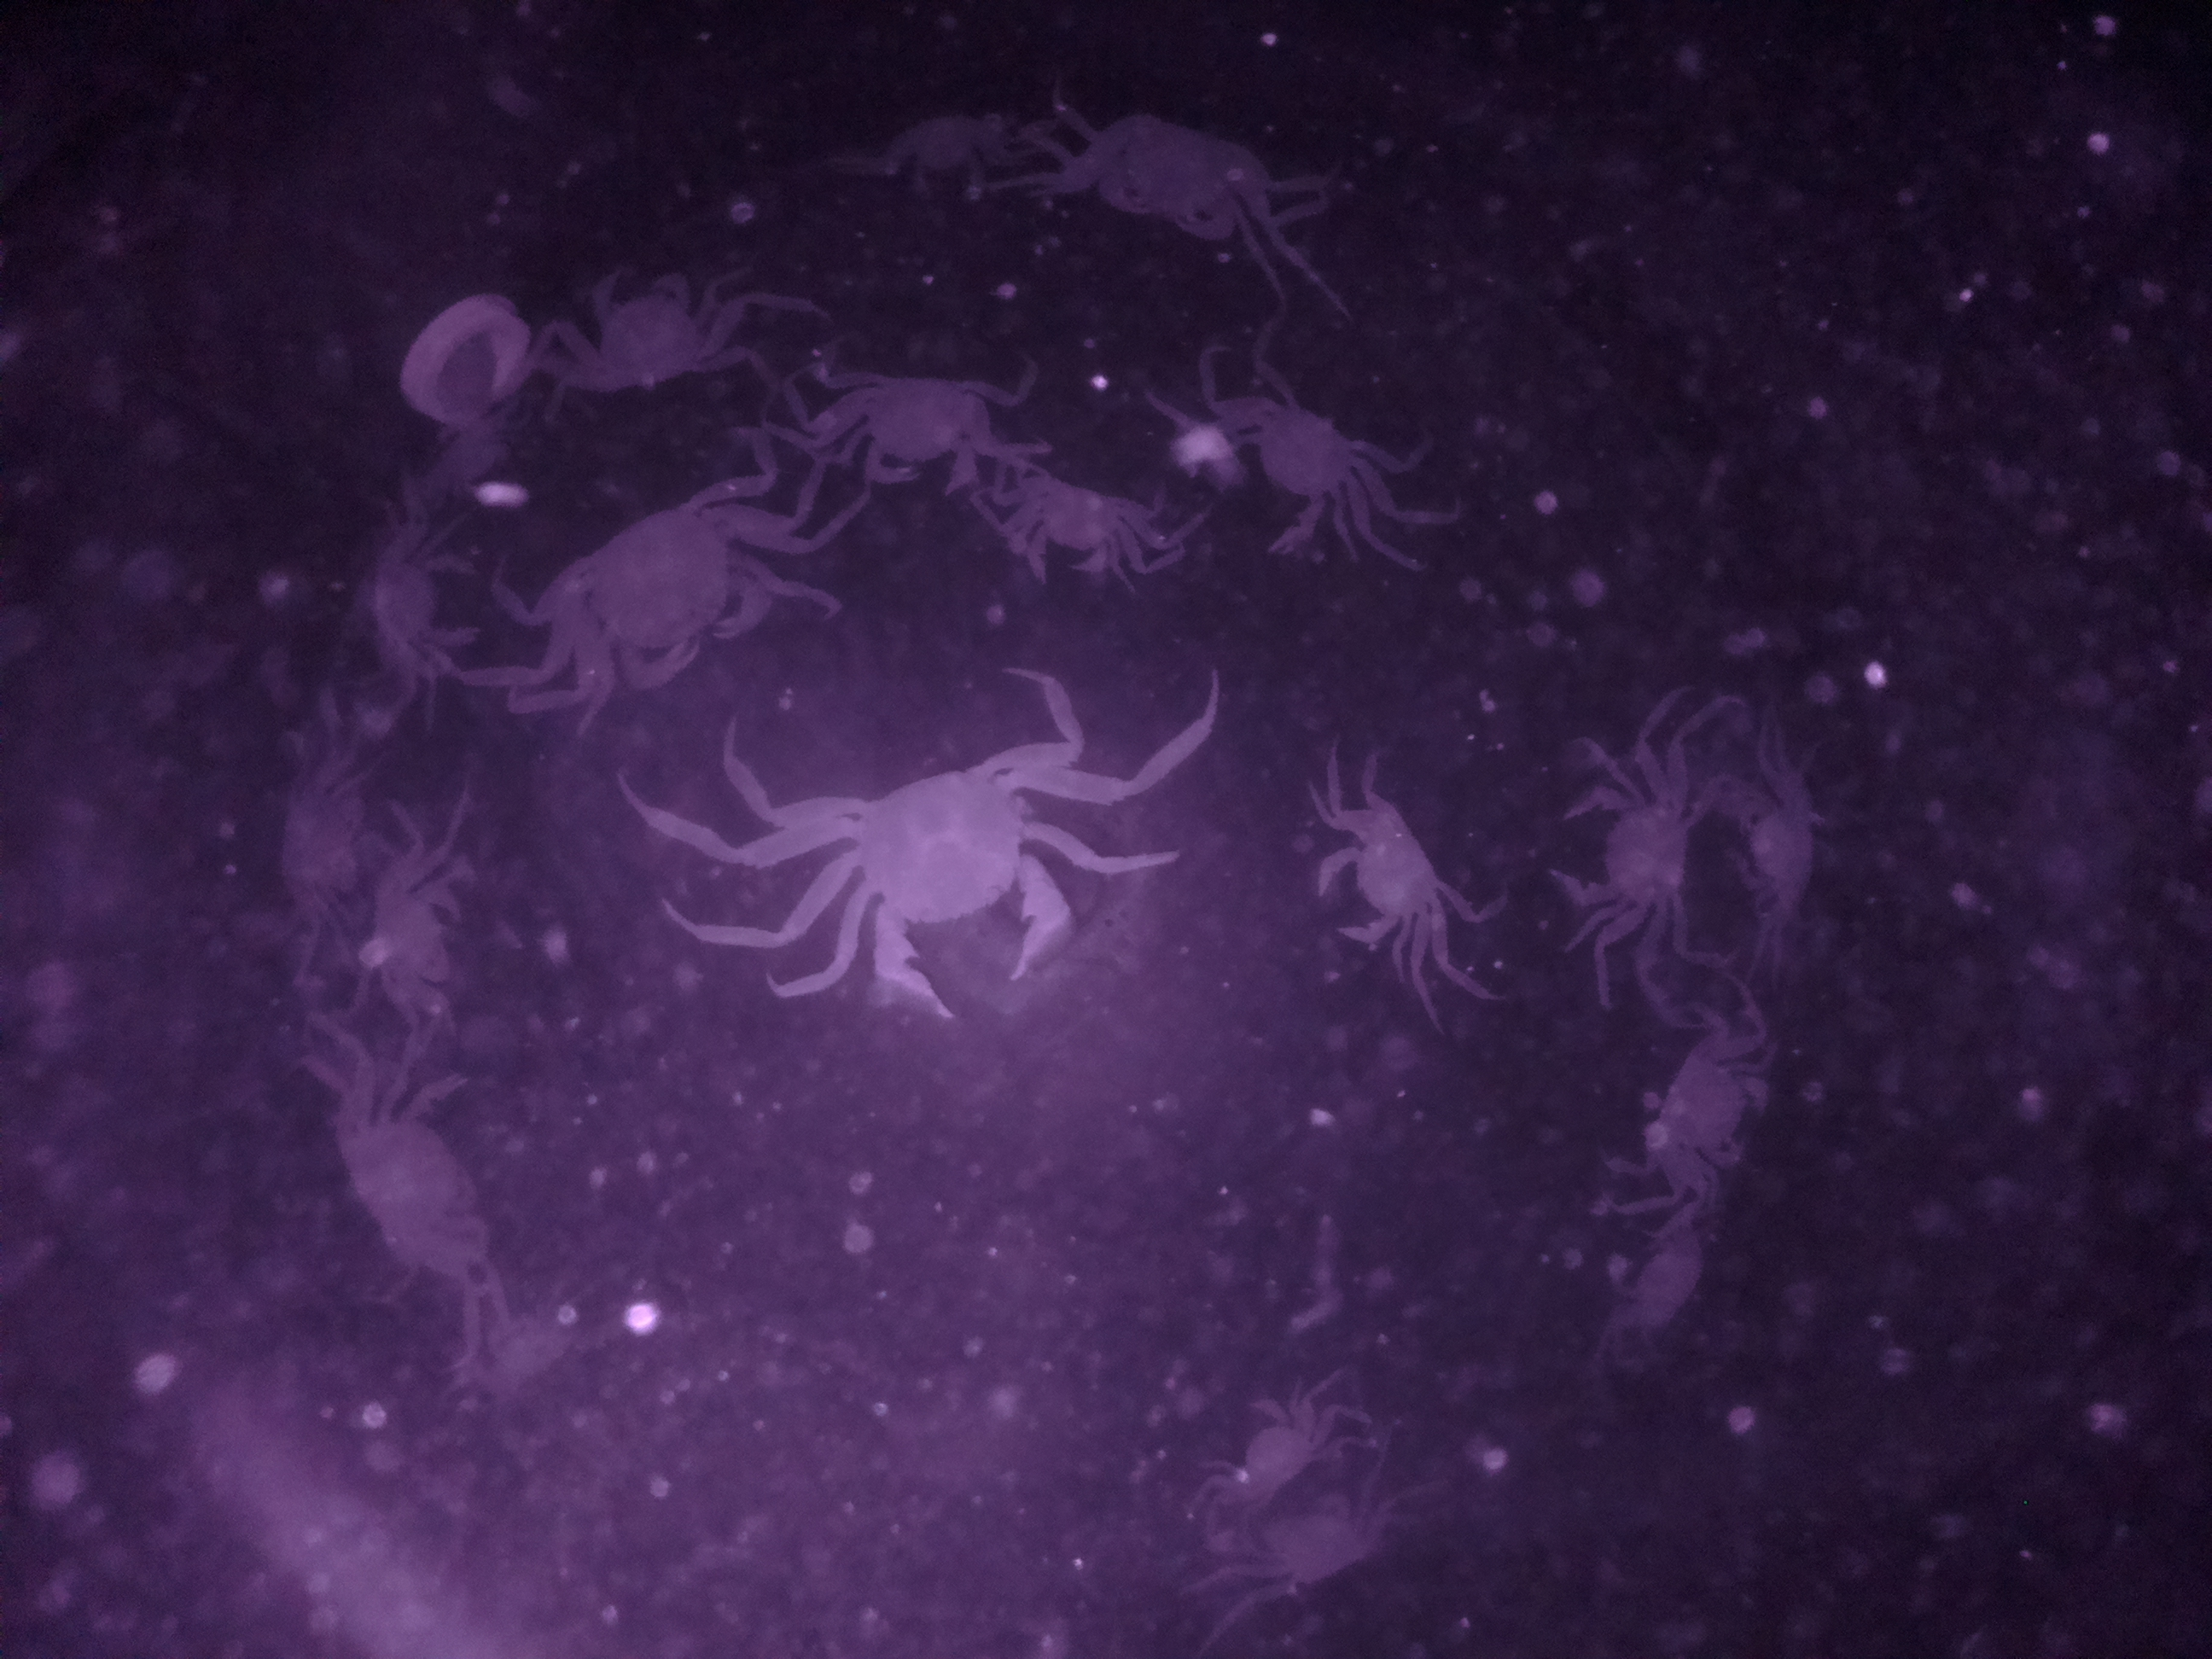Crab: (810, 751, 1104, 1021), (545, 471, 786, 706), (1205, 392, 1397, 575), (1073, 101, 1292, 240), (538, 261, 749, 390), (1545, 763, 1705, 931), (1627, 1039, 1787, 1195), (352, 507, 493, 680), (1318, 796, 1453, 978), (826, 357, 998, 491), (1723, 781, 1851, 931), (981, 464, 1144, 579), (1205, 1394, 1332, 1509)
